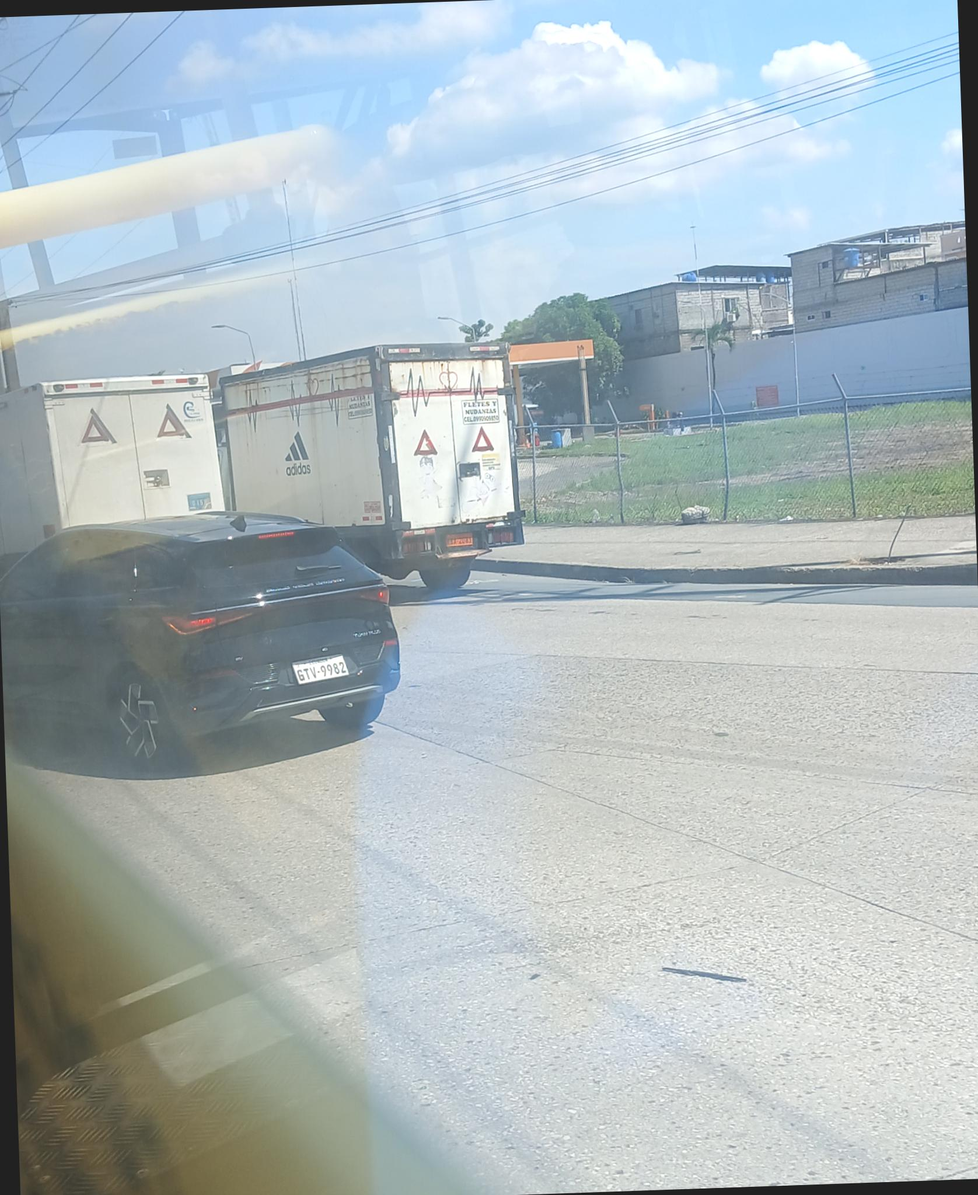license_plate: (291, 654, 351, 684)
